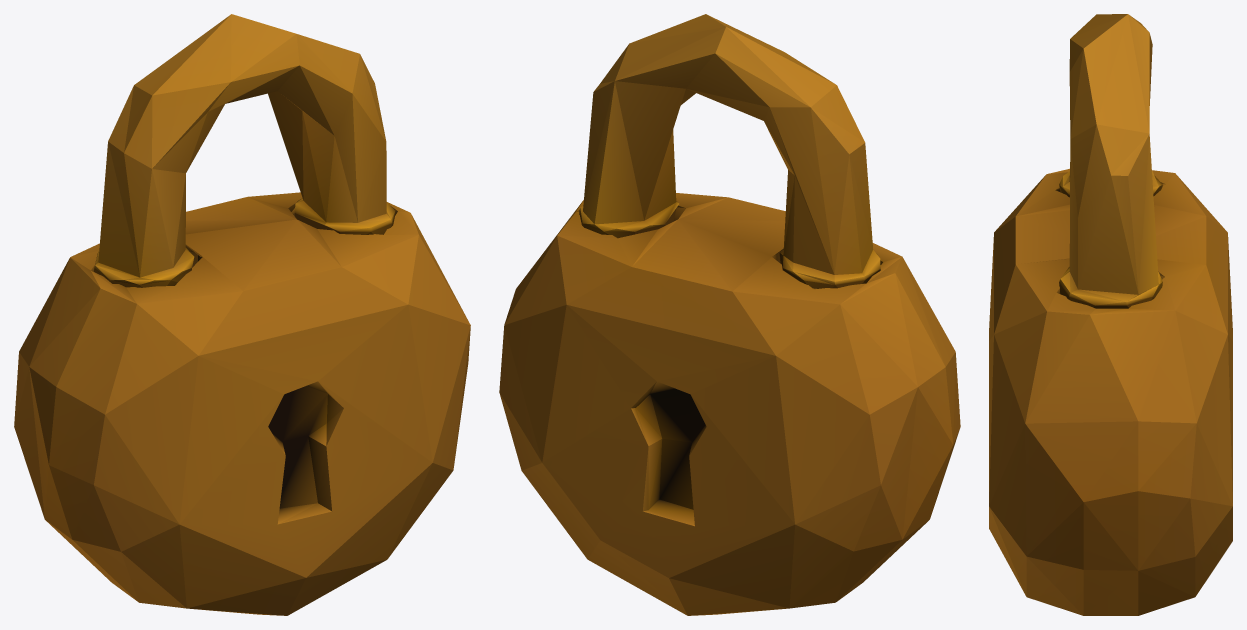
Rendered from lock_07_lod1.glb.
3 renders of one model, left to right at view 1: azimuth 30°, elevation 25°; view 2: azimuth 150°, elevation 25°; view 3: azimuth 270°, elevation 25°, orthographic.
Parts seen in each view (by area): view 1: geometry_0; view 2: geometry_0; view 3: geometry_0.
Boxes of the visible parts, <box> form: geometry_0: <box>14,14,470,615</box>; geometry_0: <box>499,14,960,615</box>; geometry_0: <box>989,14,1232,615</box>.
Size of the model in its own units: 0.7104 by 0.9478 by 0.3589.
